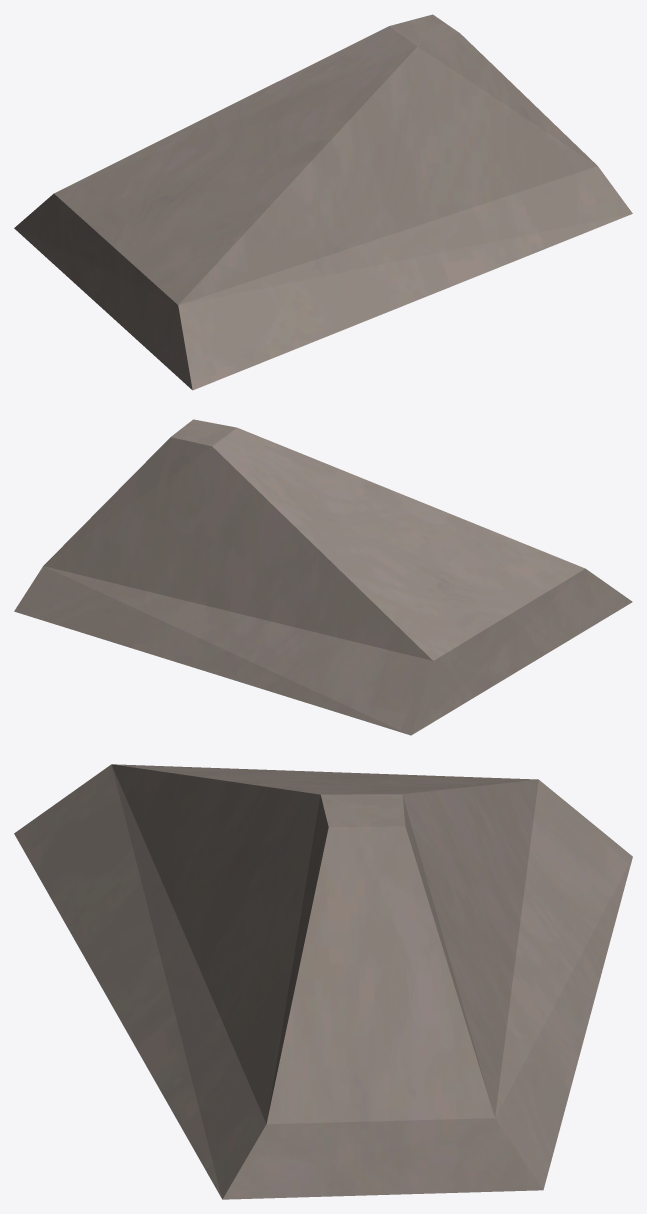
Rendered from Stone02.fbx.
The picture shows the model from 3 angles, top to bottom: view 1: azimuth 30°, elevation 25°; view 2: azimuth 150°, elevation 25°; view 3: azimuth 270°, elevation 25°; orthographic projection. The views are drawn at different scales.
Visible parts, largest first — view 1: SM_ENV_Nature_GeneralFoliageSet_Stone02.mo; view 2: SM_ENV_Nature_GeneralFoliageSet_Stone02.mo; view 3: SM_ENV_Nature_GeneralFoliageSet_Stone02.mo.
Part boxes in pixels (x1=…): SM_ENV_Nature_GeneralFoliageSet_Stone02.mo: x1=14, y1=14, x2=632, y2=390; SM_ENV_Nature_GeneralFoliageSet_Stone02.mo: x1=14, y1=419, x2=632, y2=735; SM_ENV_Nature_GeneralFoliageSet_Stone02.mo: x1=14, y1=764, x2=632, y2=1199.
Size of the model in its own units: 61.77 by 21.62 by 44.13.
Materials: 1 (1 with a texture image).
